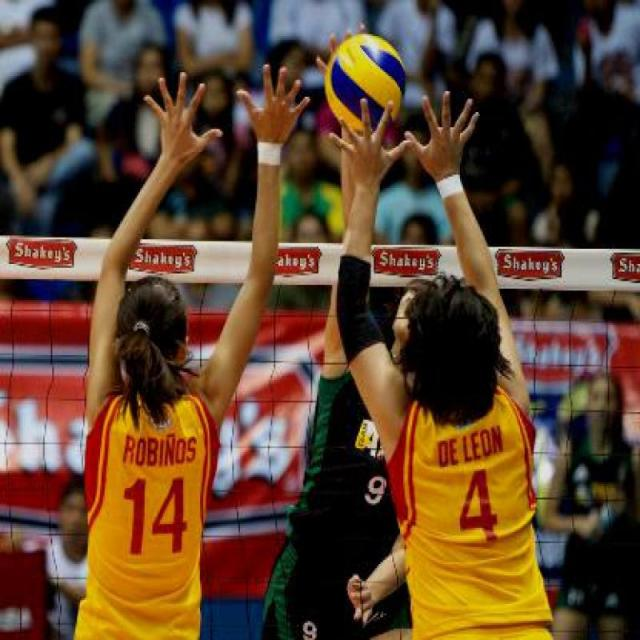volleyball: (324, 34, 406, 135)
